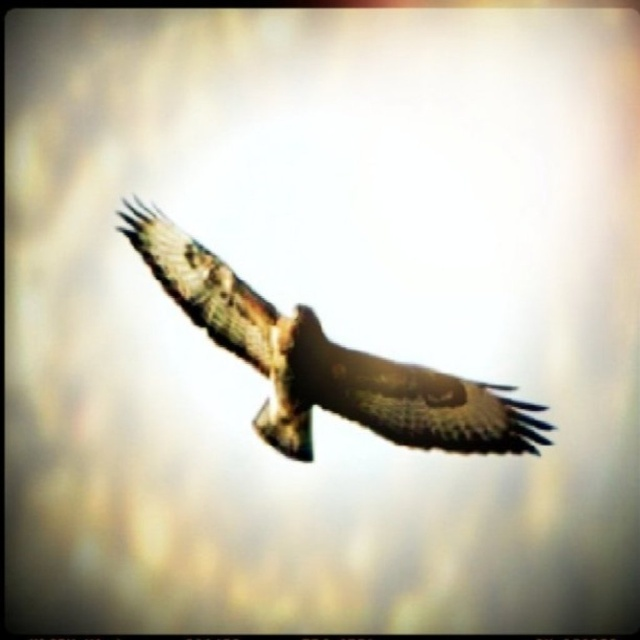Eagle: (113, 192, 556, 462)
